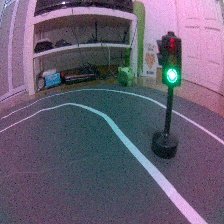green: (150, 30, 183, 160)
